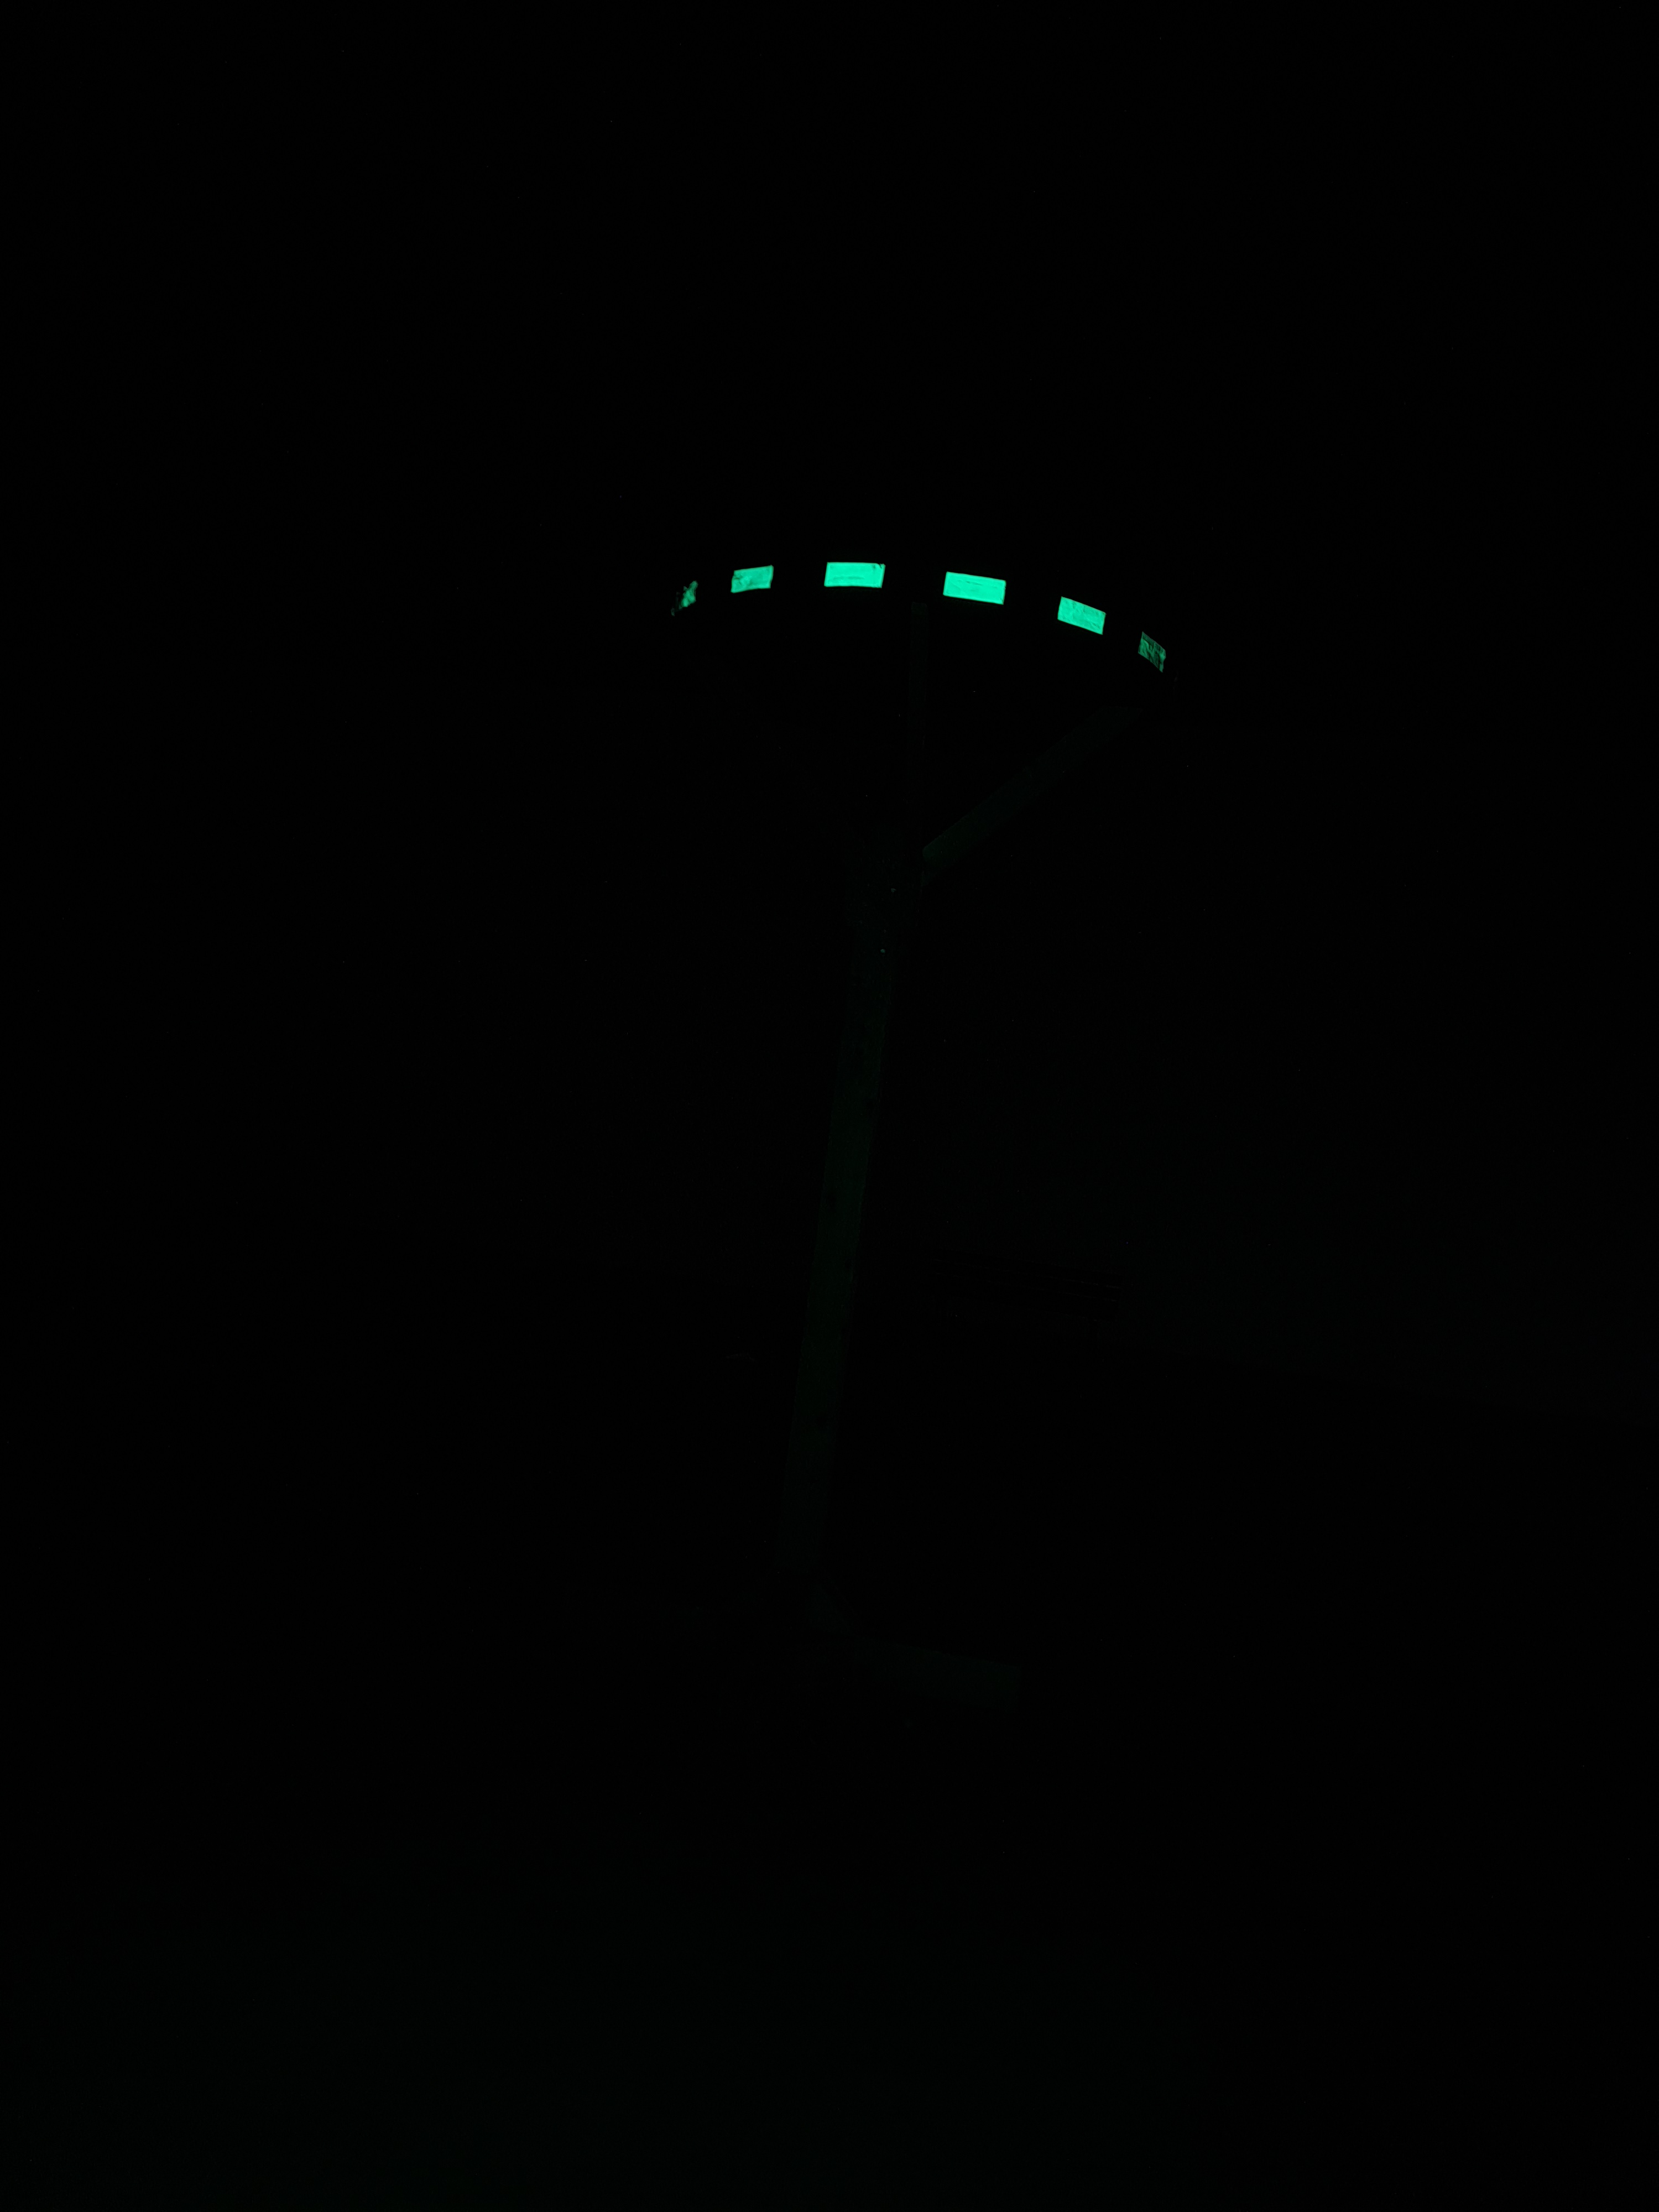hoop: (655, 542, 1185, 686)
